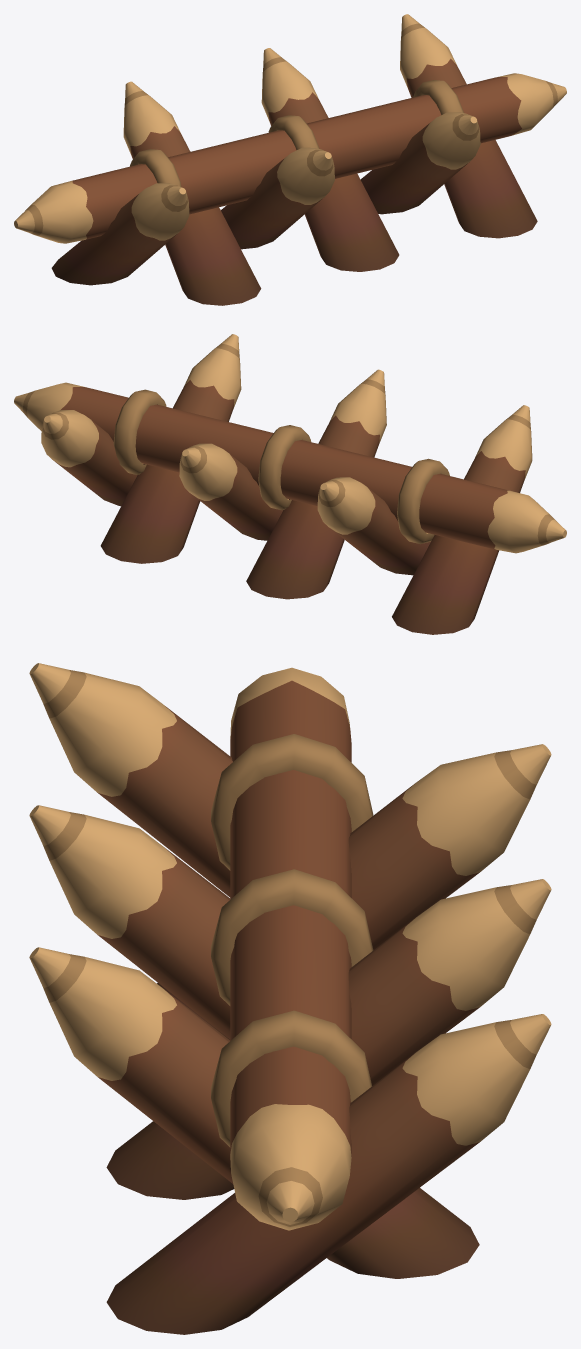
File: Barrier_1.fbx
The picture shows the model from 3 angles, top to bottom: view 1: azimuth 30°, elevation 25°; view 2: azimuth 150°, elevation 25°; view 3: azimuth 270°, elevation 25°; orthographic projection. The views are drawn at different scales.
Parts seen in each view (by area): view 1: Barrier_1; view 2: Barrier_1; view 3: Barrier_1.
Boxes of the visible parts, box(x1,y1,x2,y2) form: Barrier_1: box(14, 14, 566, 305); Barrier_1: box(14, 334, 566, 634); Barrier_1: box(29, 663, 551, 1334).
Bounding box in the file's own units: 341 × 87.22 × 140.
